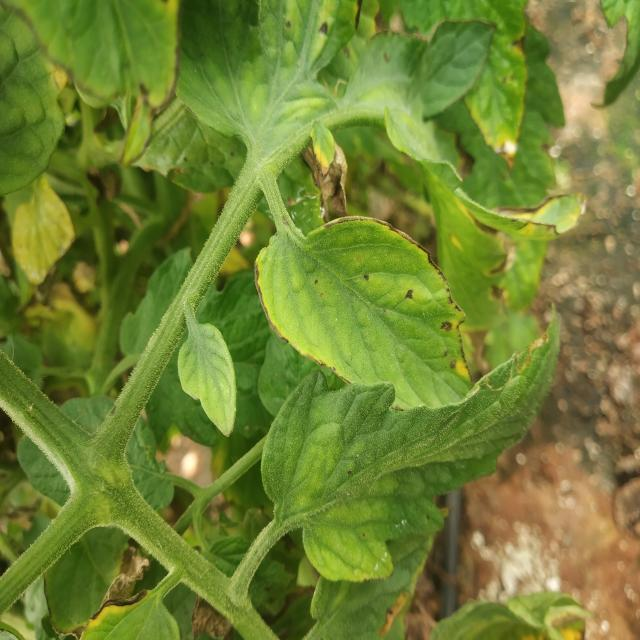Tomato mosaic virus leaf: (252, 214, 476, 414)
